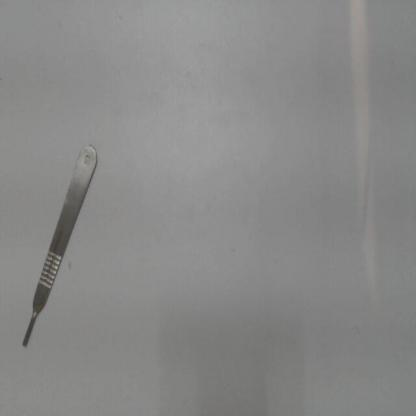No.3 BP Handle: (16, 137, 109, 355)
